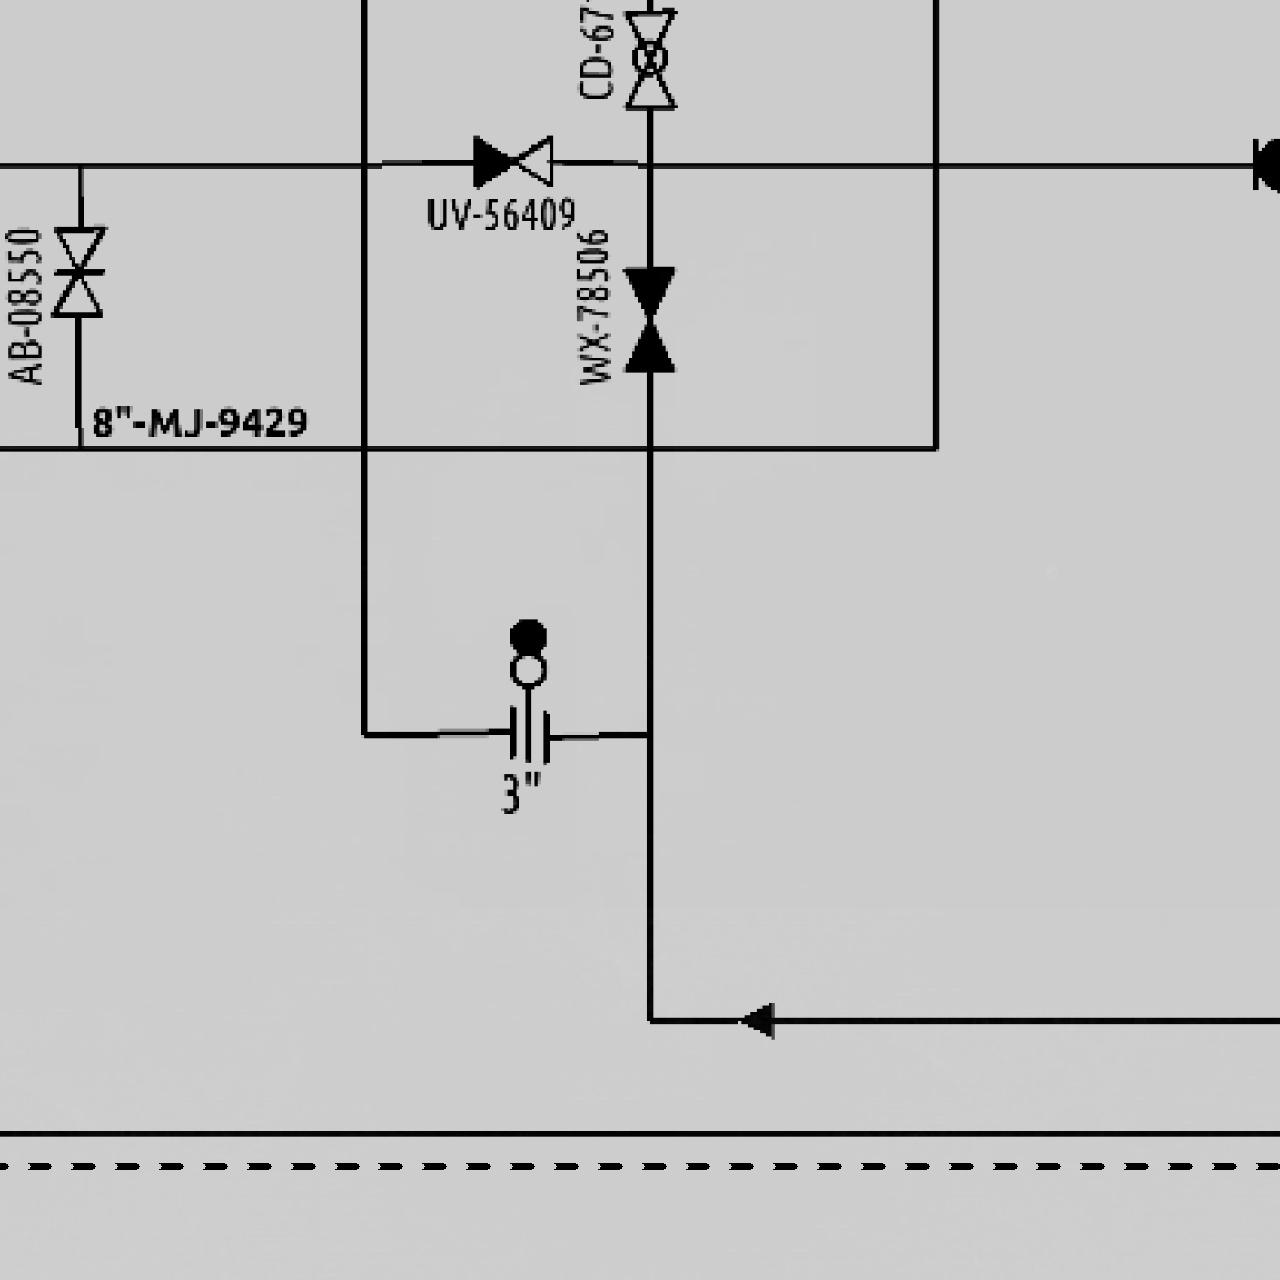Half closed valve: (469, 130, 556, 191)
